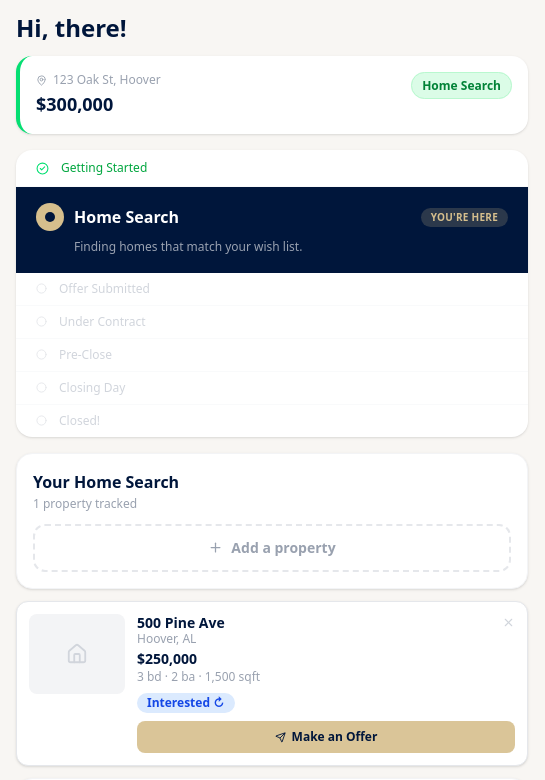
Test: ActiveSearchCard — Make an Offer (#168) › shows the confirmation only after the offer request succeeds
The image size is (545, 780).
Click the button "Make an Offer".
click(326, 737)  # box top-left (137, 721), bottom-right (515, 753)
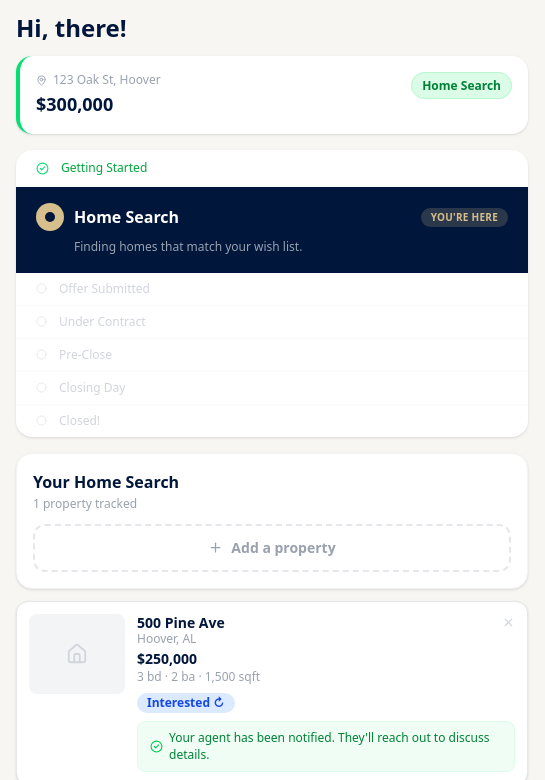
expect the text "Your agent has been notified" is shown: met, box top-left (169, 729), bottom-right (490, 762)
